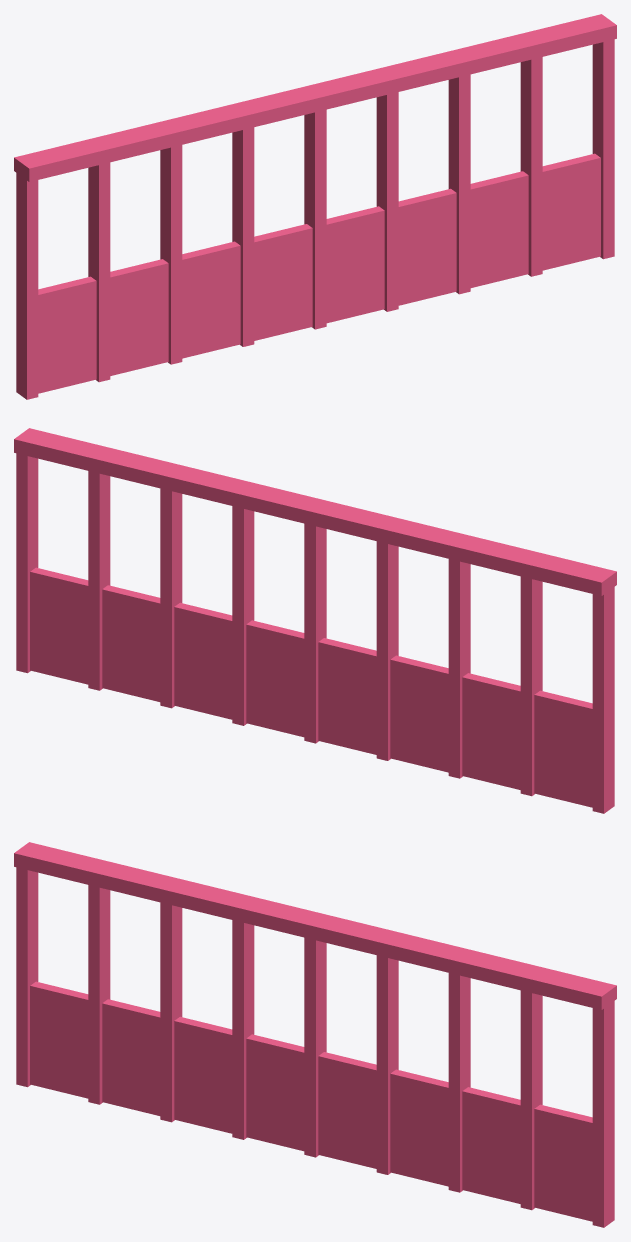
The model's file is Partitions_096.glb.
The picture shows the model from 3 angles, top to bottom: view 1: azimuth 30°, elevation 25°; view 2: azimuth 150°, elevation 25°; view 3: azimuth 330°, elevation 25°; orthographic projection.
Parts seen in each view (by area): view 1: Partitions_096; view 2: Partitions_096; view 3: Partitions_096.
Boxes of the visible parts, x1=… form: Partitions_096: x1=14, y1=14, x2=616, y2=399; Partitions_096: x1=14, y1=428, x2=616, y2=813; Partitions_096: x1=14, y1=842, x2=616, y2=1227.
Bounding box in the file's own units: 2 × 0.7575 × 0.0898.
Materials: 1 (1 with a texture image).
